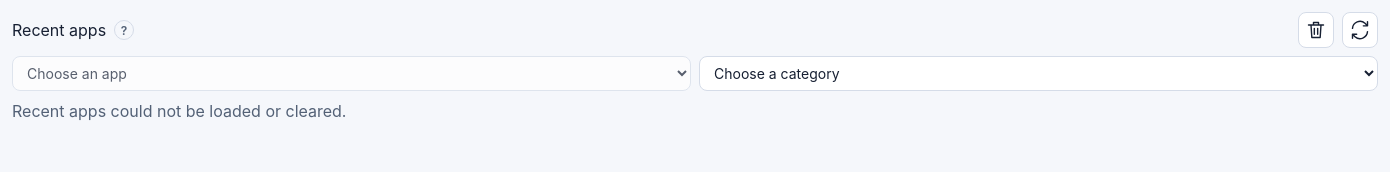
Test case: failed list has a localized retry without exposing the native error
The width and height of the screenshot is (1390, 172).
Step 1. Click the button named "Refresh" → click(1360, 30), box left=1342, top=12, right=1378, bottom=48
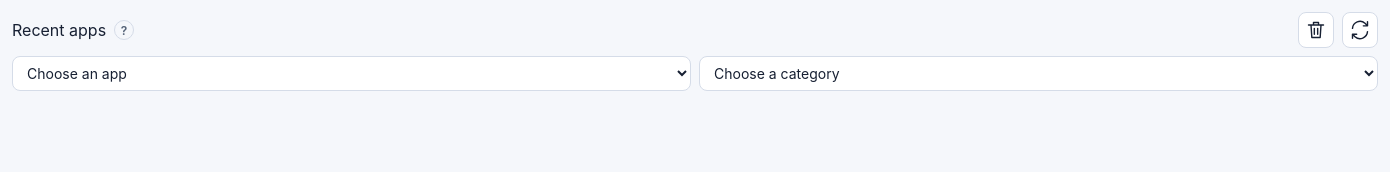
Now the message "Recent apps could not be loaded or cleared." is gone
